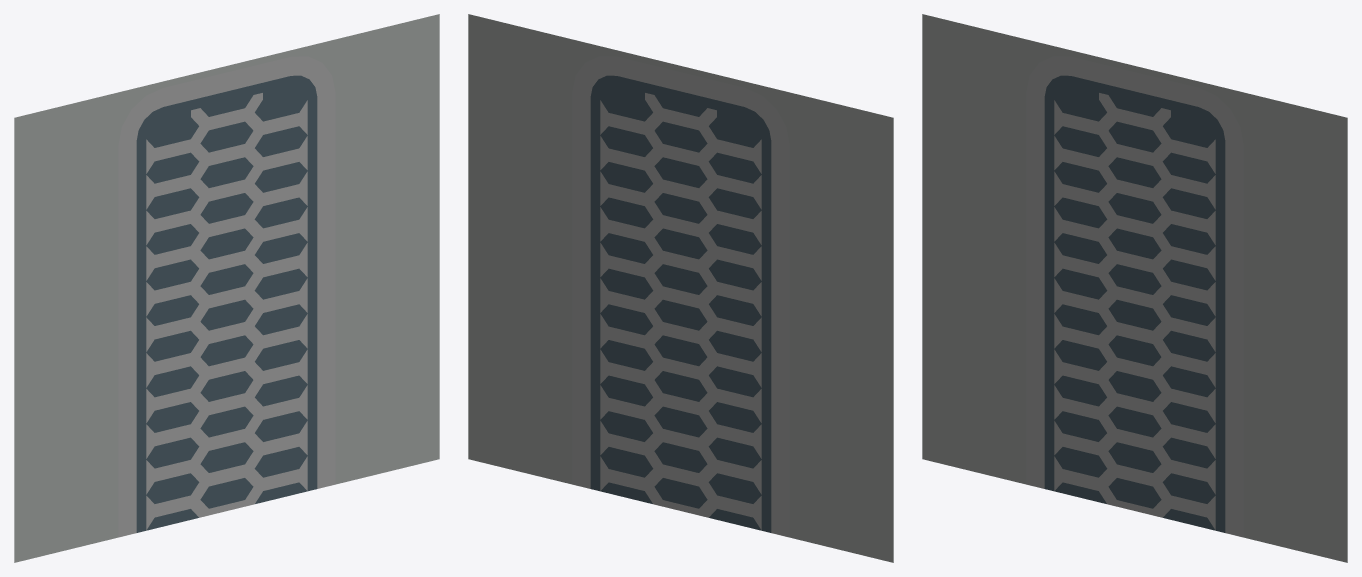
The picture shows the model from 3 angles, left to right: view 1: azimuth 30°, elevation 25°; view 2: azimuth 150°, elevation 25°; view 3: azimuth 330°, elevation 25°; orthographic projection.
Visible parts, largest first — view 1: world; view 2: world; view 3: world.
Boxes of the visible parts, left/top/right/bottom form: world: left=14, top=14, right=439, bottom=562; world: left=468, top=14, right=893, bottom=562; world: left=922, top=14, right=1347, bottom=562.
Size of the model in its own units: 0.008 by 0.008 by 0.
